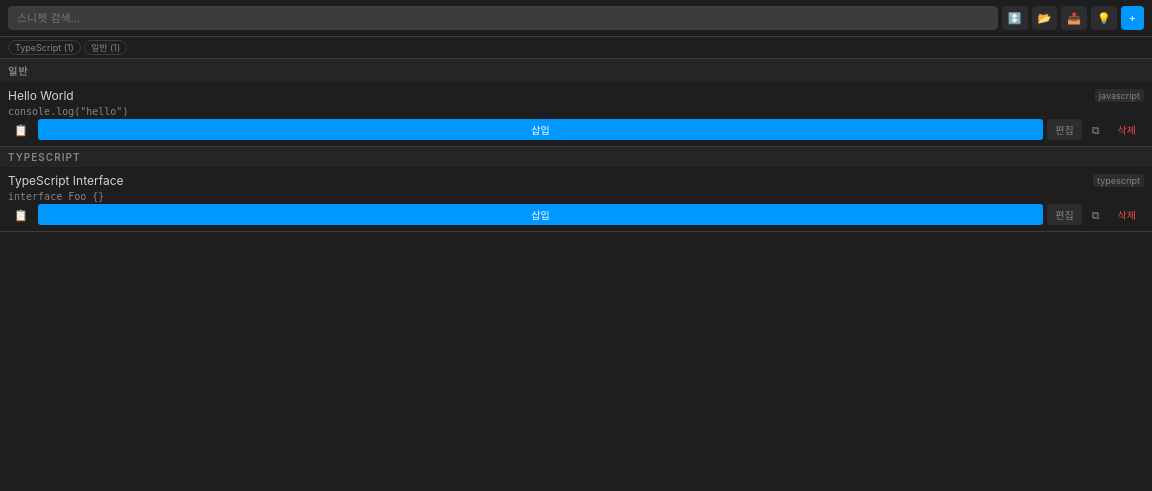
Test: SnippetPanel › + 버튼 클릭 시 추가 폼이 표시된다
expect the text "Hello World" is shown: met, box [8,88,74,103]
Click the button titled "새 스니펫": (1132, 18) [1121,6,1144,30]
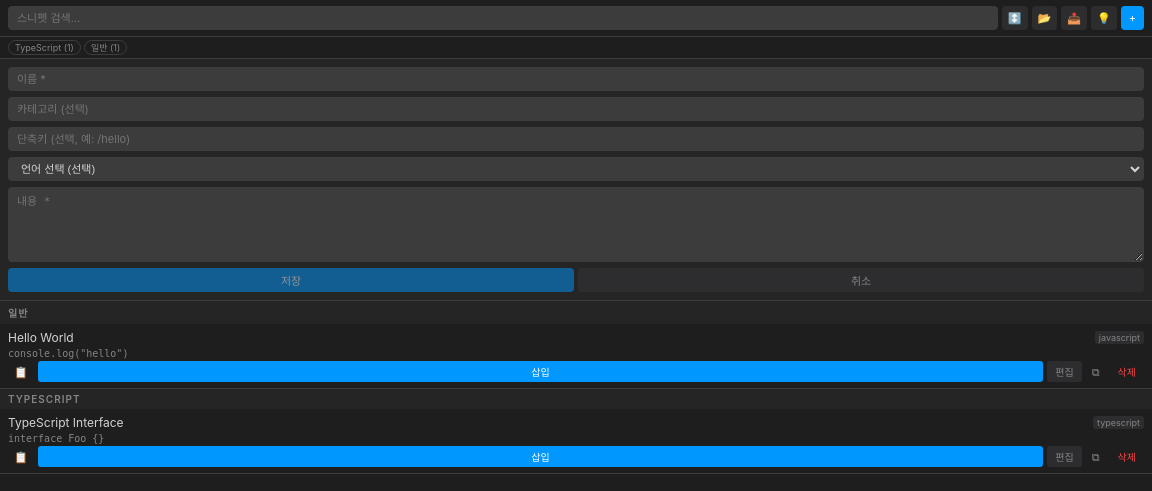
expect the field with placeholder "이름 *" is shown: met, box [8,67,1144,91]
expect the text box with placeholder "내용 *" is shown: met, box [8,187,1144,262]
